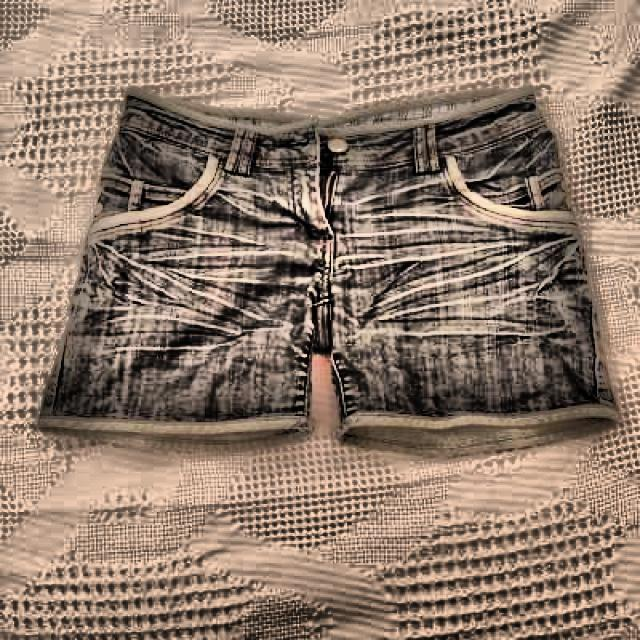clothes: (46, 89, 622, 456)
